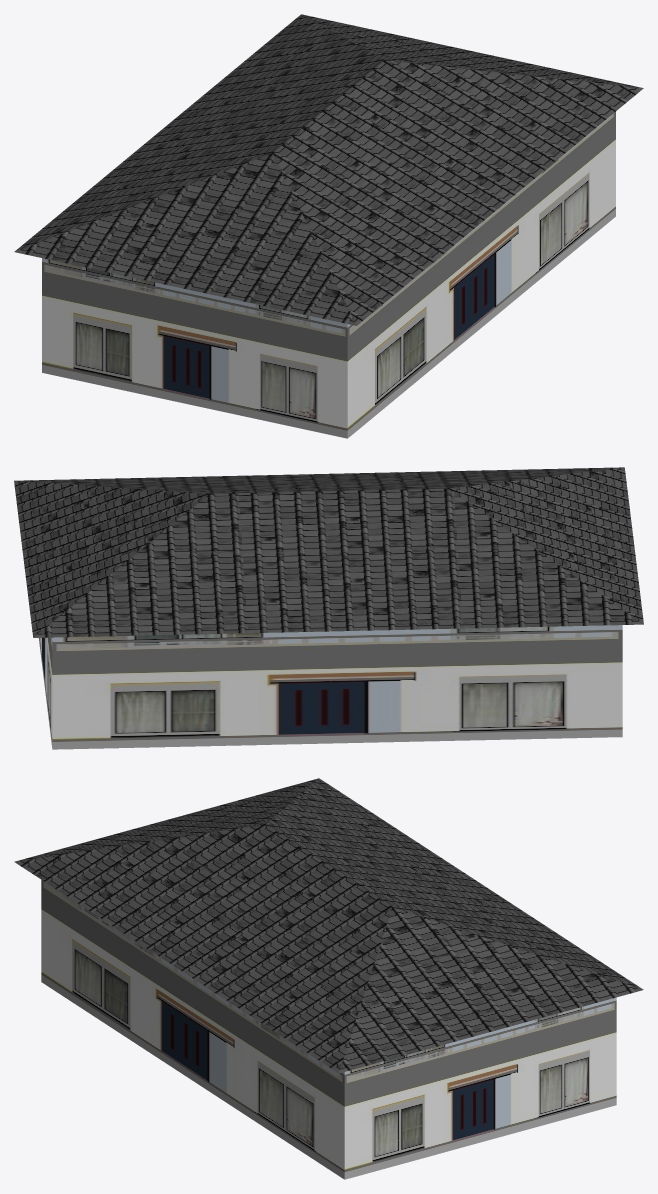
The picture shows the model from 3 angles, top to bottom: view 1: azimuth 30°, elevation 25°; view 2: azimuth 150°, elevation 25°; view 3: azimuth 270°, elevation 25°; orthographic projection. The views are drawn at different scales.
Parts seen in each view (by area): view 1: CityEngineMaterial_8_m, CityEngineMaterial_7_m; view 2: CityEngineMaterial_8_m, CityEngineMaterial_7_m; view 3: CityEngineMaterial_8_m, CityEngineMaterial_7_m.
Boxes of the visible parts, <box> form: CityEngineMaterial_8_m: <box>14,14,643,325</box>; CityEngineMaterial_7_m: <box>42,111,615,438</box>; CityEngineMaterial_8_m: <box>14,467,643,637</box>; CityEngineMaterial_7_m: <box>38,625,622,749</box>; CityEngineMaterial_8_m: <box>14,778,643,1073</box>; CityEngineMaterial_7_m: <box>41,880,616,1179</box>.
Bounding box in the file's own units: 33.24 × 9.33 × 29.97.
